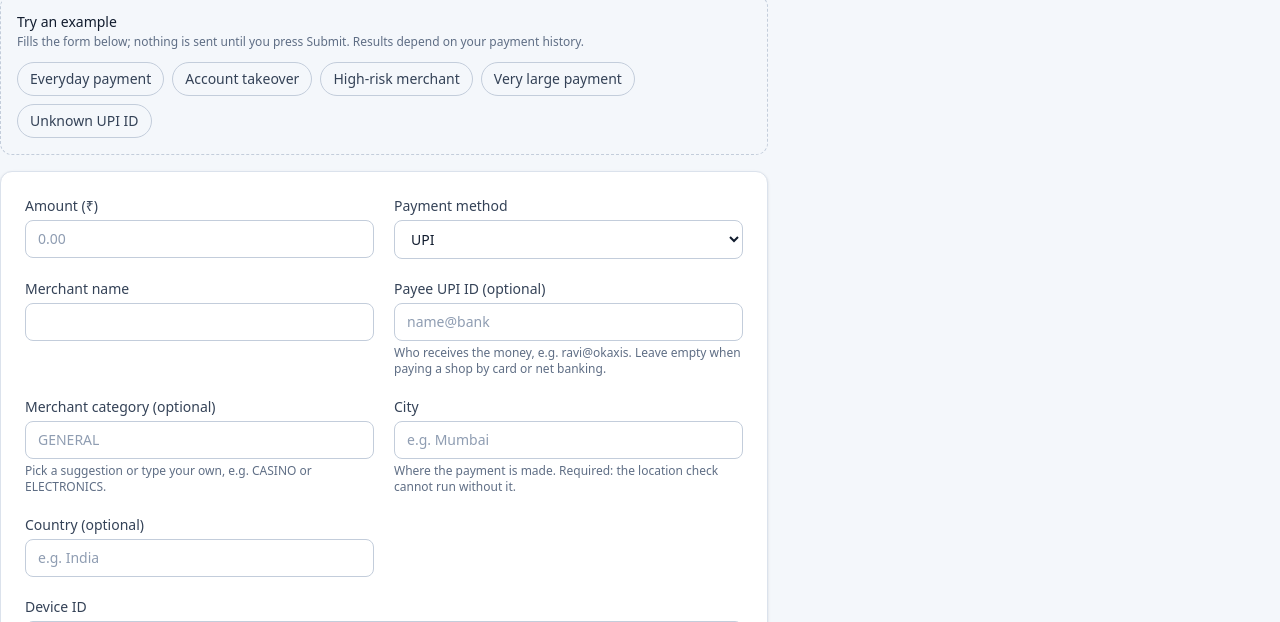
Test case: SubmitTransaction: payee UPI ID › the result names the payee and warns about a watchlisted one
Type "9500" into the number field labelled "Amount (₹)" at {"x": 200, "y": 239}, box [25,220,374,258]
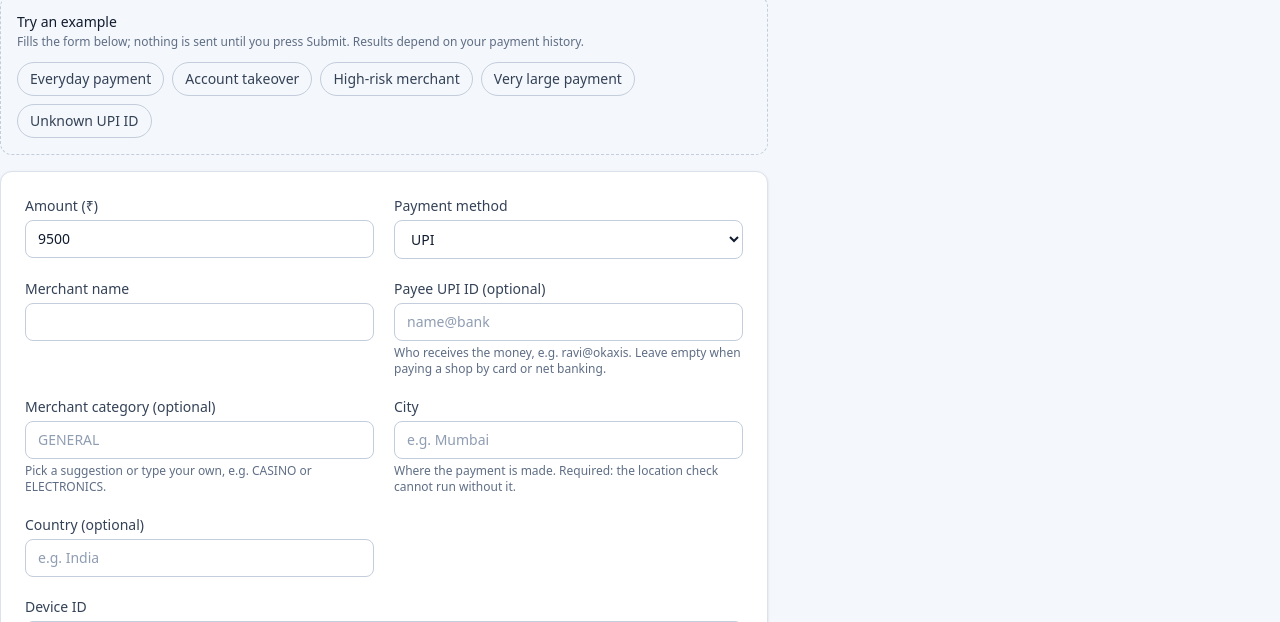
Type "Easy Loan Helpdesk" into the field labelled "Merchant name" at {"x": 200, "y": 322}, box [25,303,374,341]
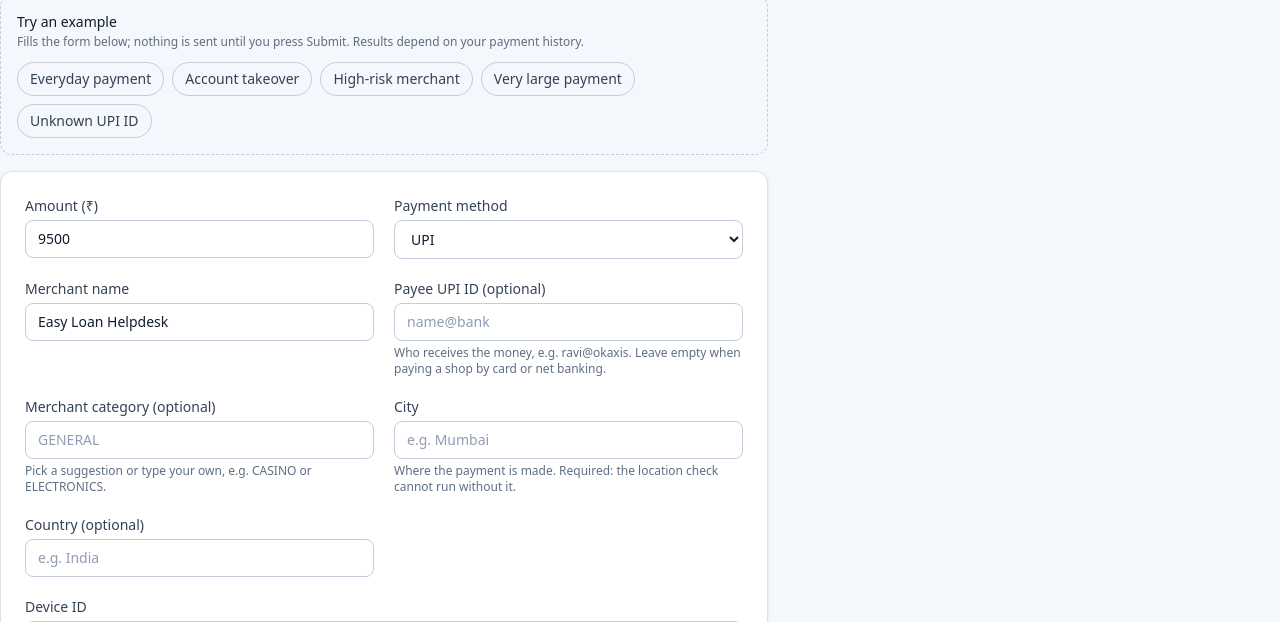
Type "Pune" into the field labelled "City" at {"x": 568, "y": 440}, box [394,421,743,459]
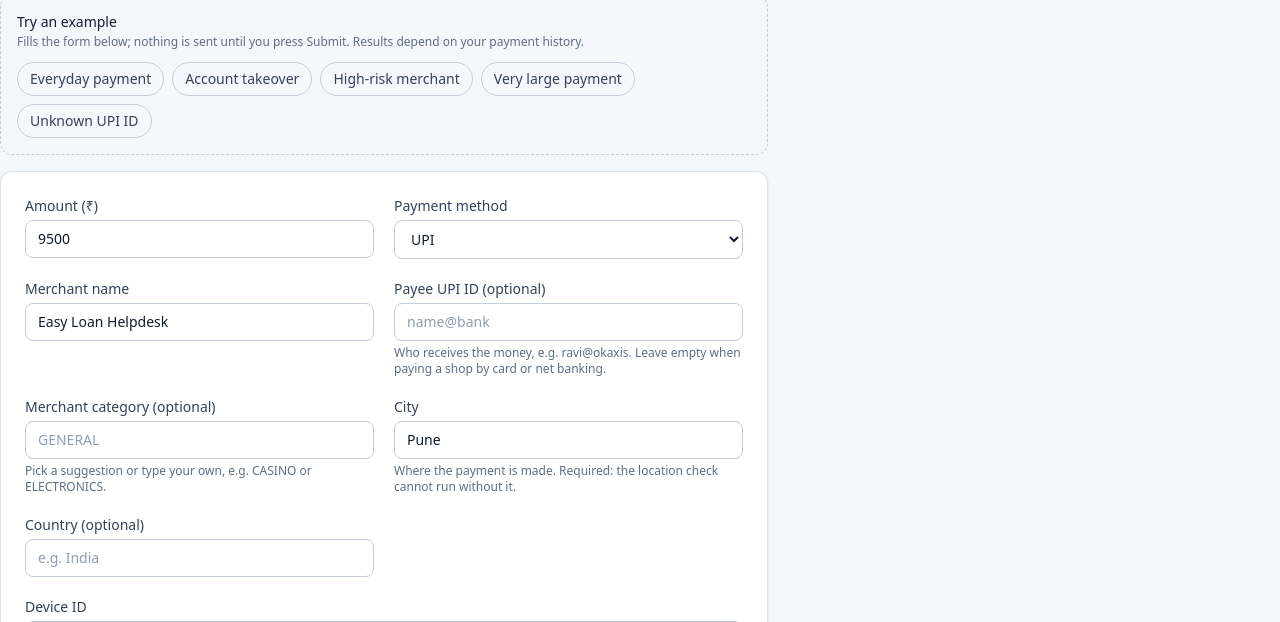
Type "easyloan.helpdesk@ybl" into the field labelled "Payee UPI ID (optional)" at {"x": 568, "y": 322}, box [394,303,743,341]
(page scrolled)
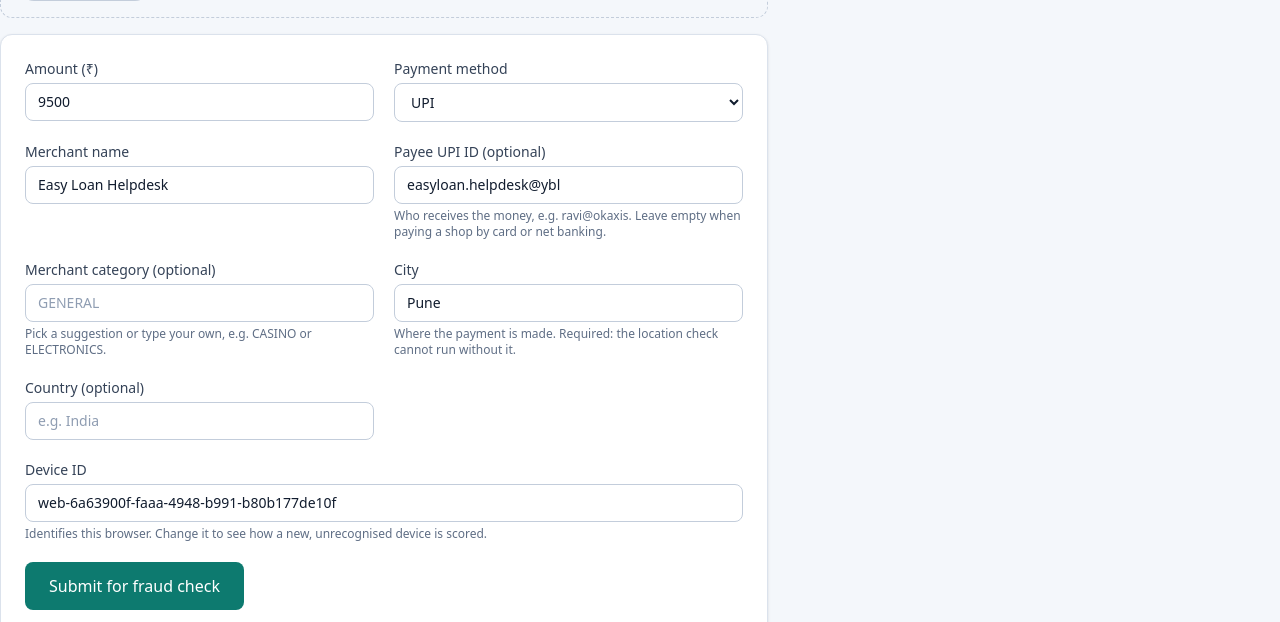
Click the button "Submit for fraud check" at {"x": 134, "y": 586}, box [25,562,244,610]
(page scrolled)
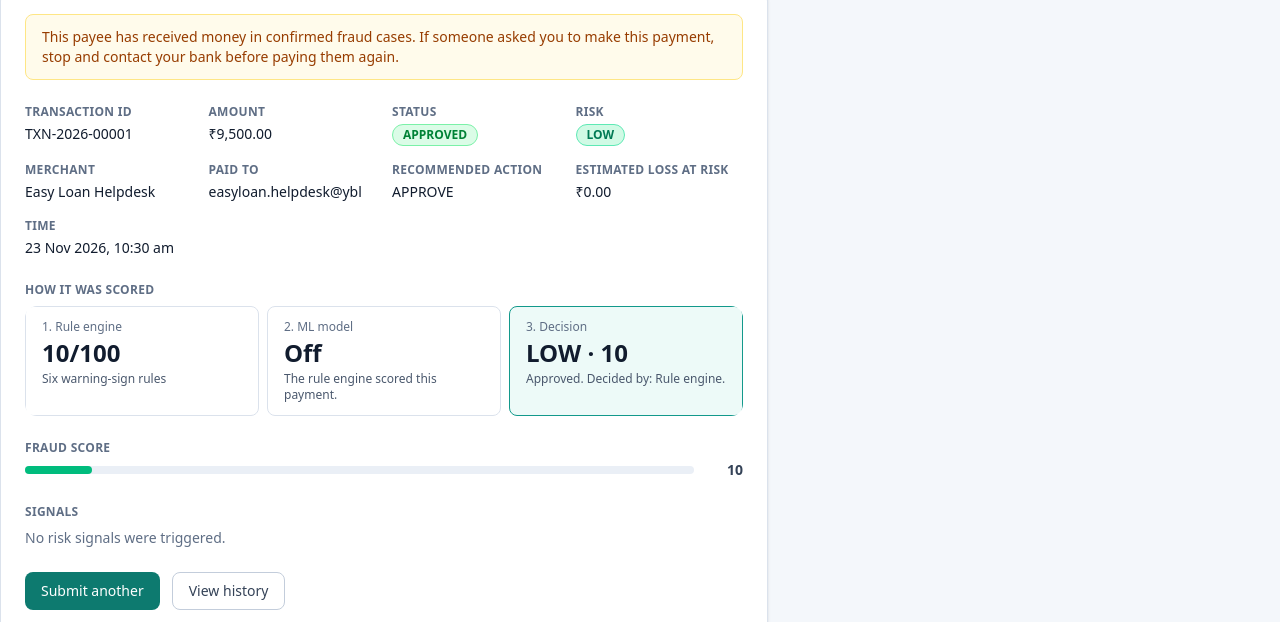
expect the text "received money in confirmed fraud cases" is shown: met, box [42,27,714,66]
